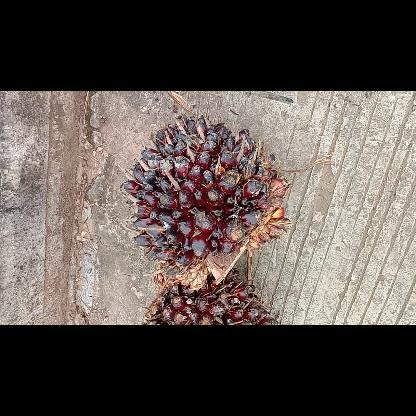TBS mentah: (116, 114, 296, 292), (138, 264, 284, 324)
